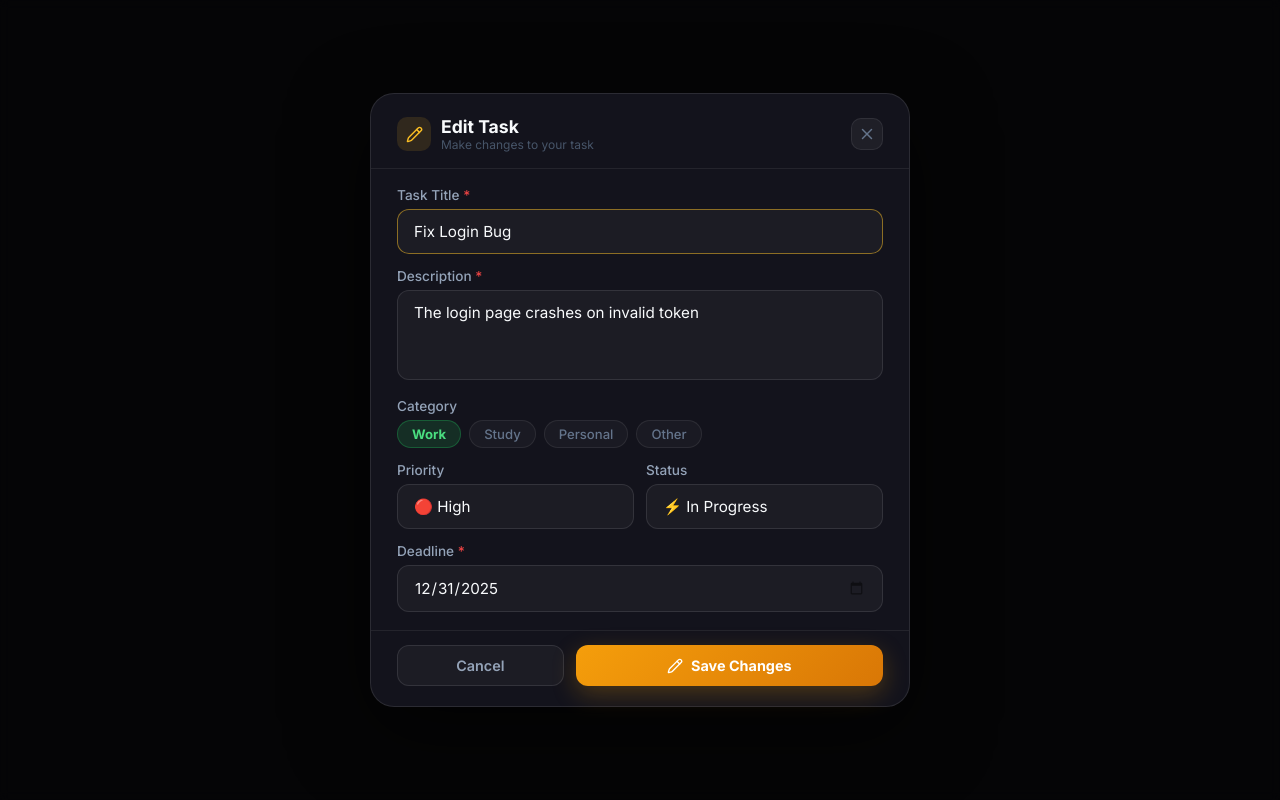
it: EditTaskModal › shows "Description is required" when description is cleared
Clear the text box showing "crashes on invalid token": point(640, 335) [397, 290, 883, 380]
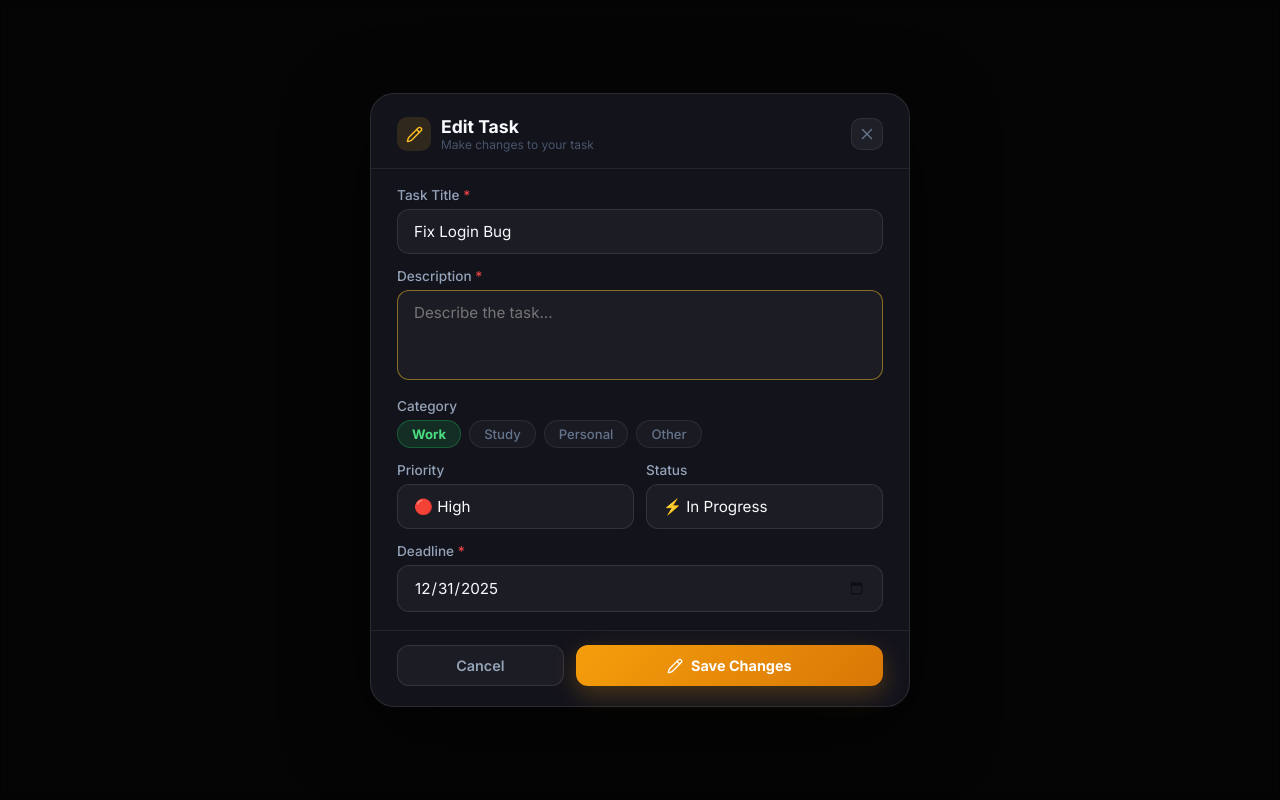
Click the button "Save Changes": point(729, 666) [576, 645, 883, 686]
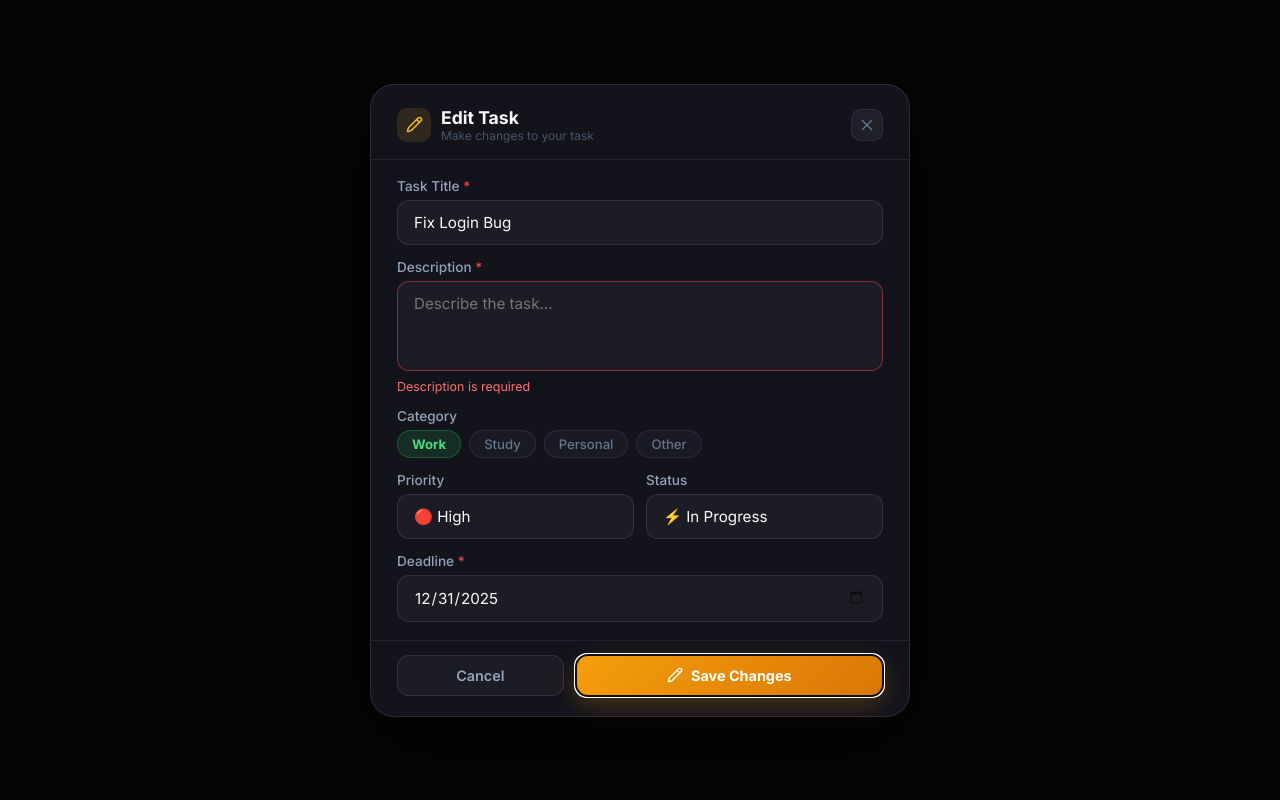
Expected: the text "Description is required" is shown, [397, 378, 530, 394]
